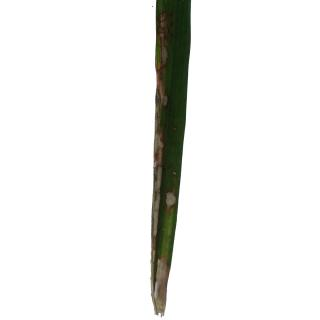Hawar-Daun: (160, 181, 179, 213)
